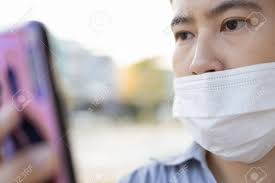mask_weared_incorrect: (162, 5, 275, 126)
